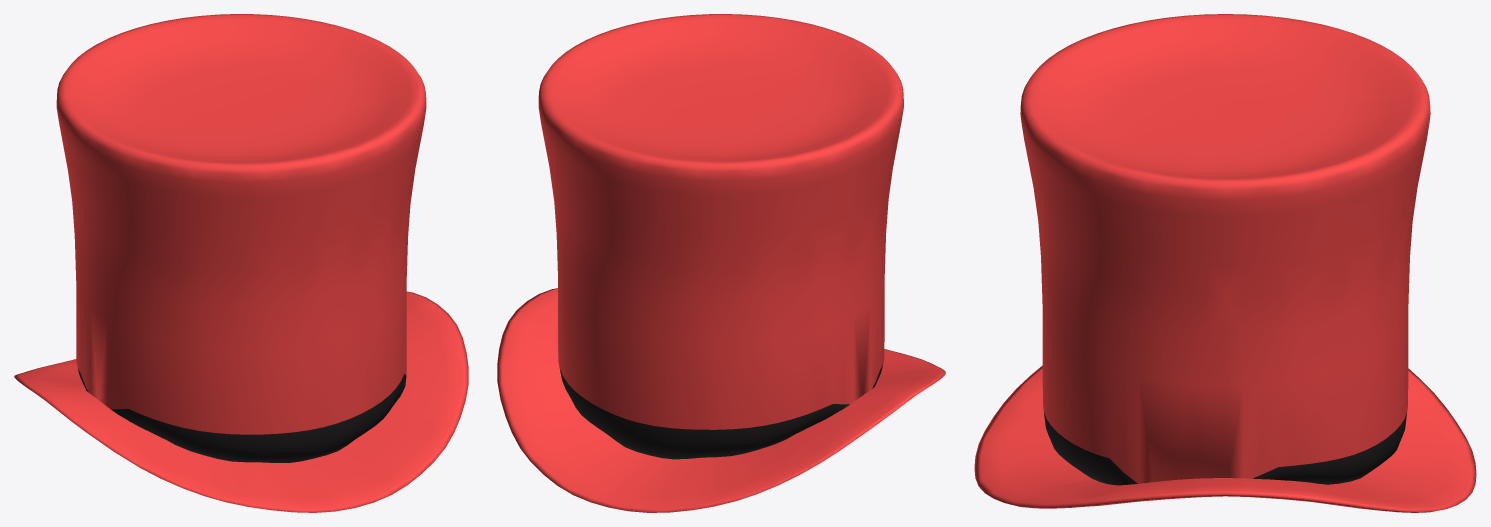
The model's file is outfit_top_hat.glb.
The picture shows the model from 3 angles, left to right: view 1: azimuth 30°, elevation 25°; view 2: azimuth 150°, elevation 25°; view 3: azimuth 270°, elevation 25°; orthographic projection. The views are drawn at different scales.
Visible parts, largest first — view 1: outfit_top_hat; view 2: outfit_top_hat; view 3: outfit_top_hat.
Part boxes in pixels (x1,y1,x2,y2): outfit_top_hat: (14, 14, 468, 512); outfit_top_hat: (497, 14, 945, 512); outfit_top_hat: (974, 14, 1476, 512).
Bounding box in the file's own units: 0.36 × 0.3 × 0.36.
